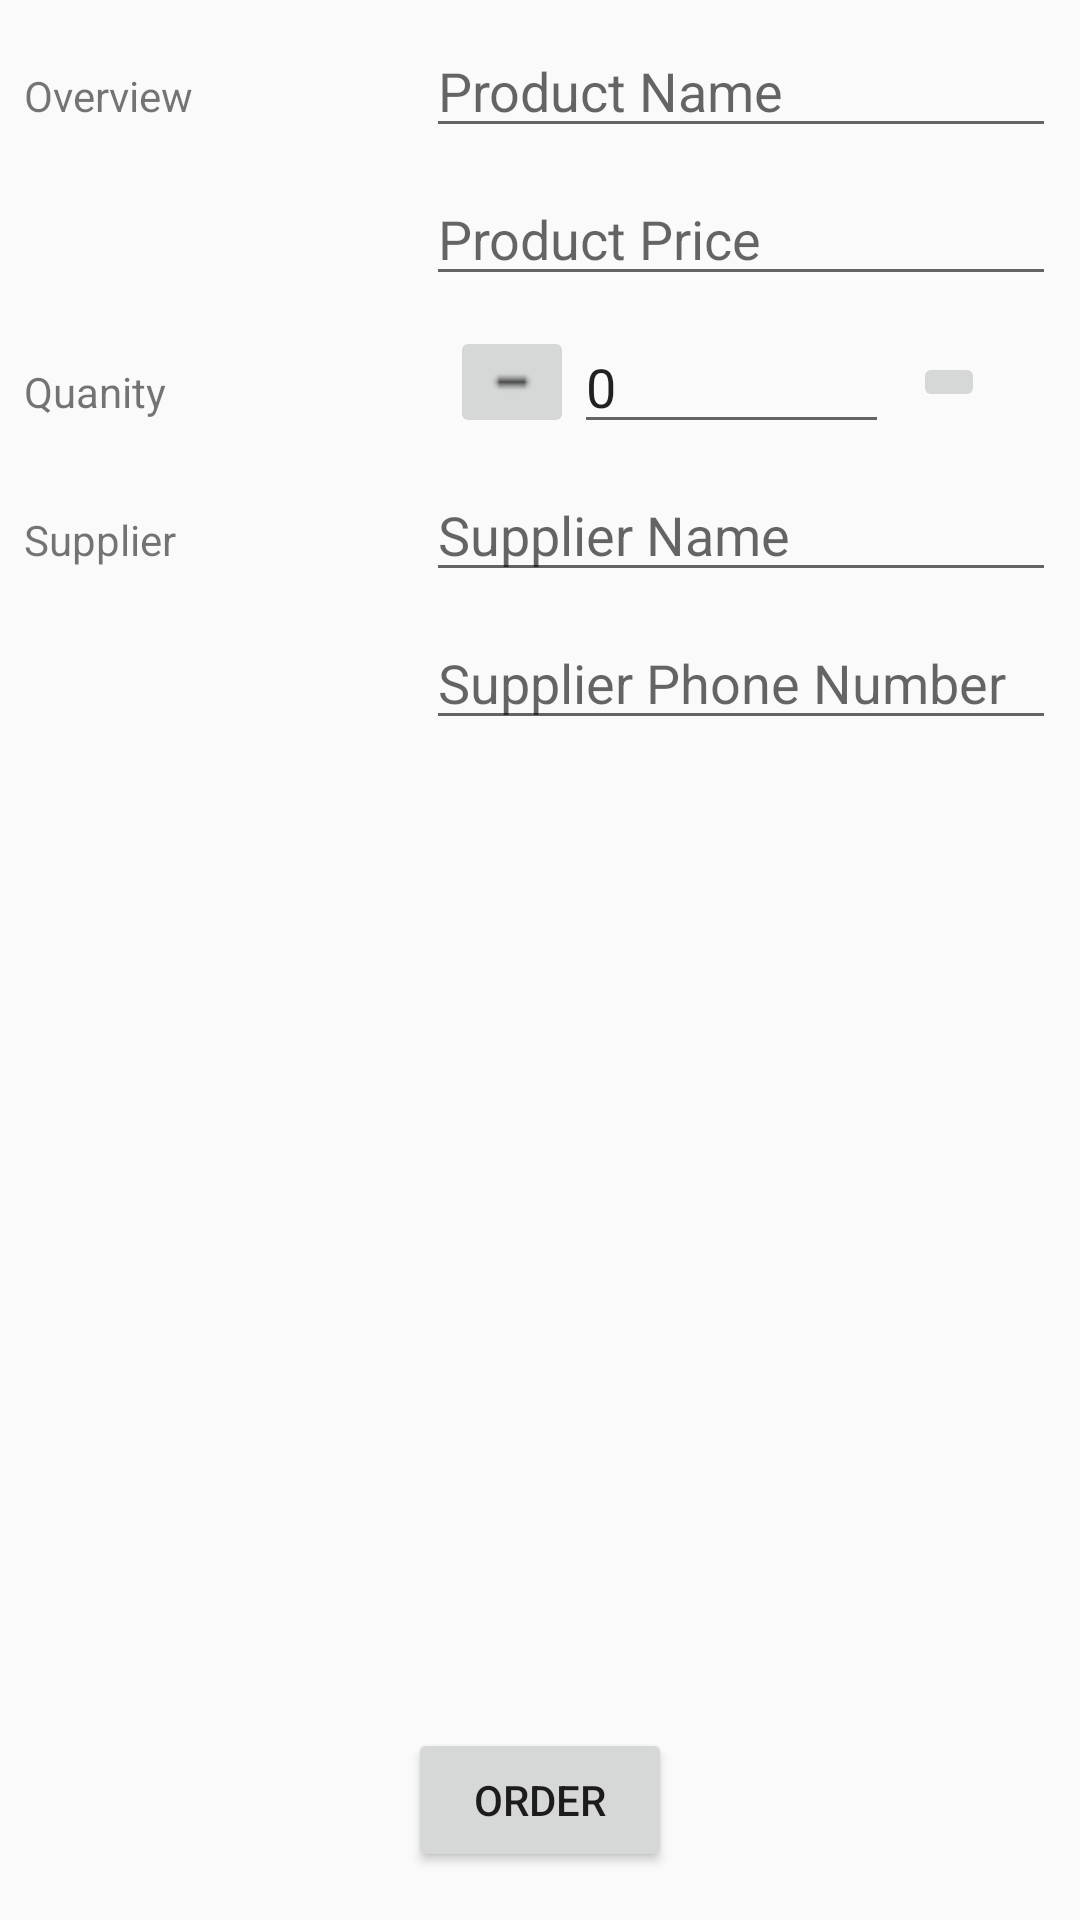

Icons on this 1080x1920 Android screen, each with its box as {"x1": x1, "y1": y1, "x2": x2, "y2": y2}:
remove: {"x1": 462, "y1": 344, "x2": 562, "y2": 420}
